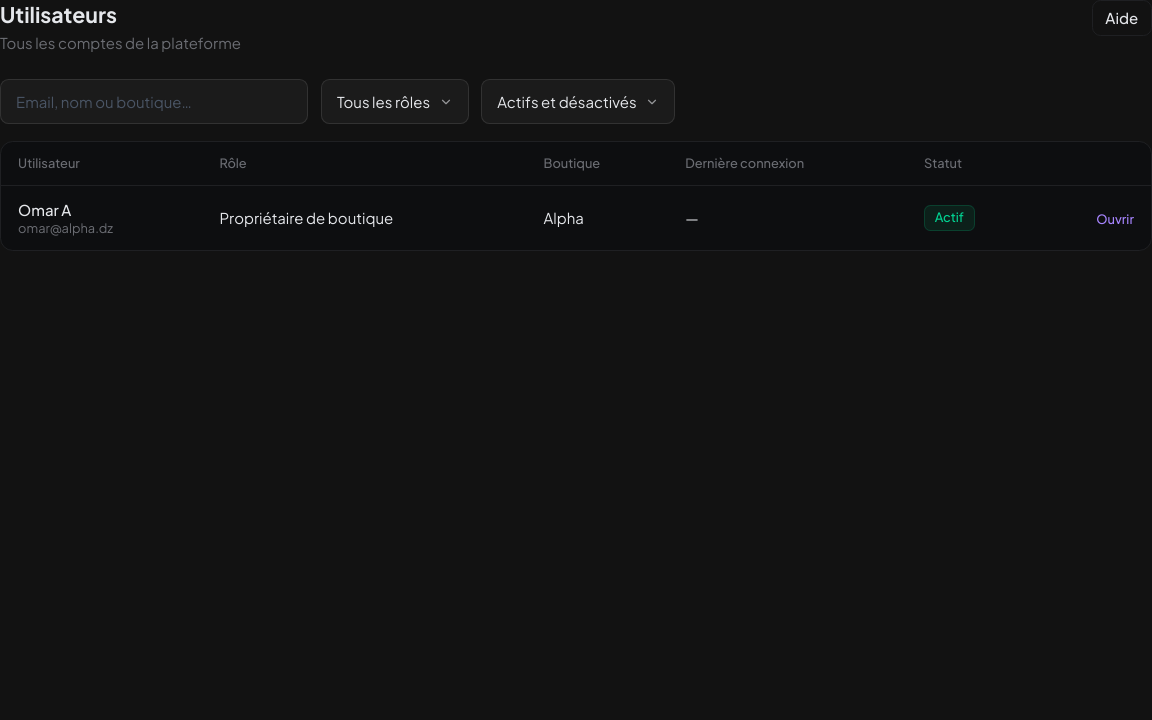
Test: PlatformAdminUsersPage › does not allow deactivating an administration account from here
This screenshot has width=1152, height=720.
Expected: the text "omar@alpha.dz" is shown, x1=18 y1=220 x2=113 y2=236
Click the button "Ouvrir" at (1115, 220), box x1=1096 y1=211 x2=1134 y2=228
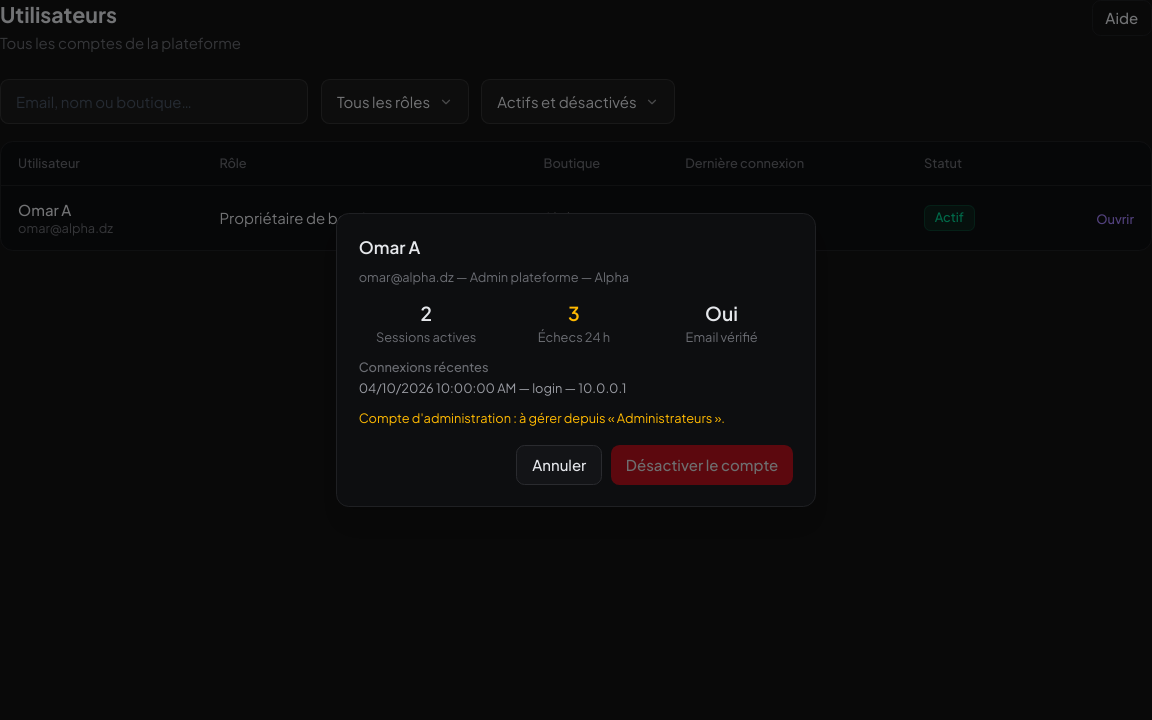
Now the button "Désactiver le compte" is disabled, box x1=611 y1=444 x2=793 y2=485
